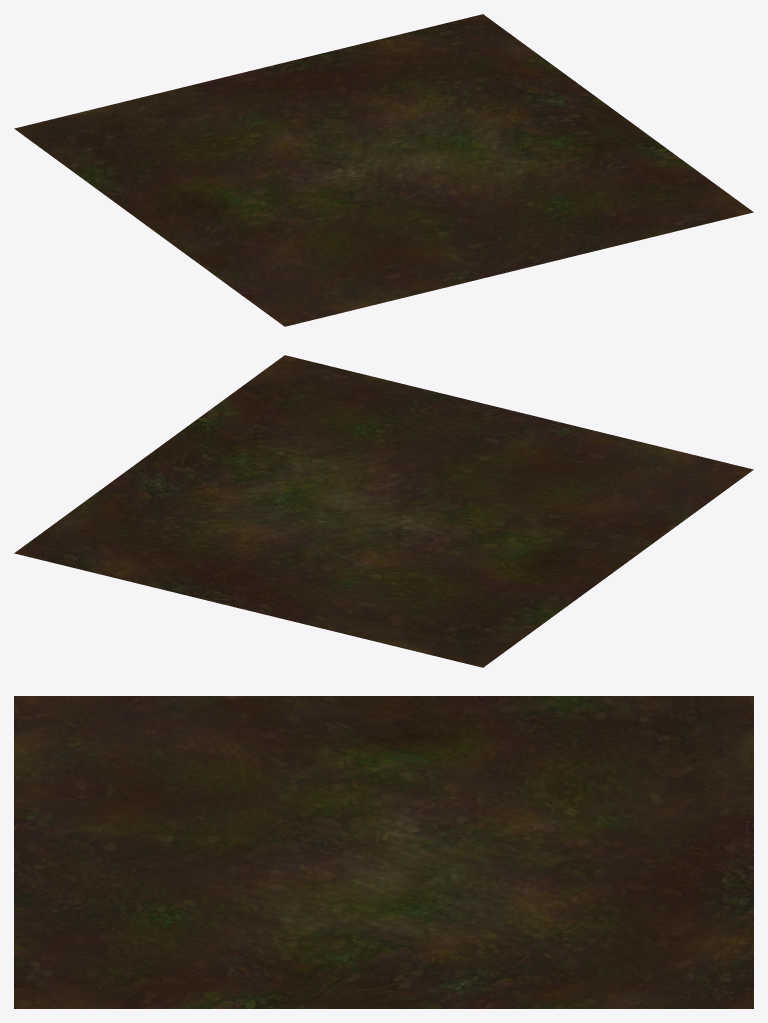
The model's file is Flat_JUNGLE.dae.
3 renders of one model, top to bottom at view 1: azimuth 30°, elevation 25°; view 2: azimuth 150°, elevation 25°; view 3: azimuth 270°, elevation 25°, orthographic. The views are drawn at different scales.
Parts seen in each view (by area): view 1: mesh0, mesh0_flipped; view 2: mesh0, mesh0_flipped; view 3: mesh0, mesh0_flipped.
Boxes of the visible parts, x1,y1,x2,y2 form: mesh0: (14,14,753,326); mesh0_flipped: (16,14,751,326); mesh0: (14,355,753,667); mesh0_flipped: (15,356,750,666); mesh0: (14,696,753,1008); mesh0_flipped: (14,696,753,1008).
Bounding box in the file's own units: 9.17 × 0 × 9.17.
